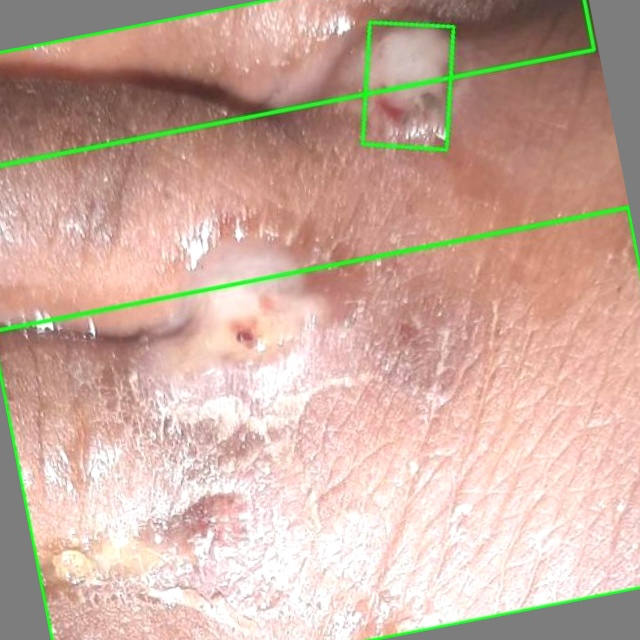Eczema: (0, 207, 639, 639), (0, 0, 593, 165), (363, 22, 454, 149)
